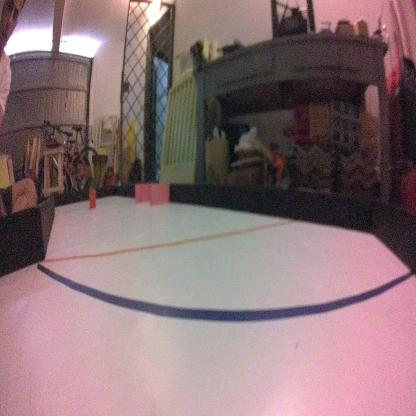magenta: (149, 182, 168, 209), (135, 182, 150, 208)
red: (86, 185, 98, 208)
